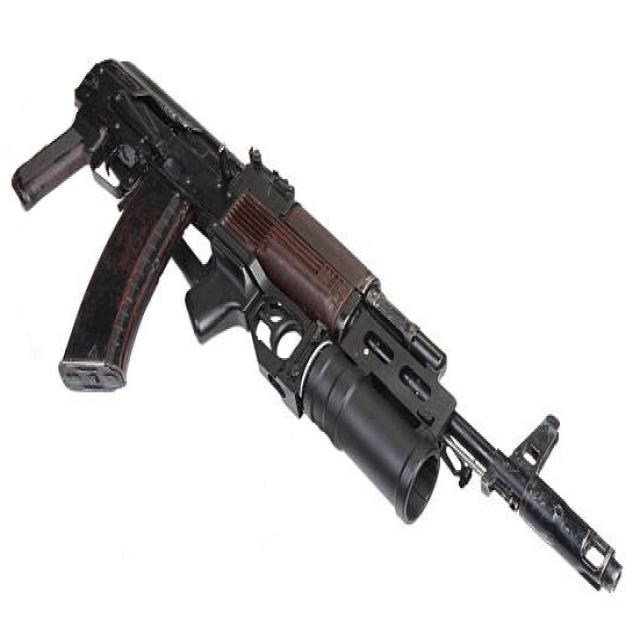rifle: (9, 49, 631, 600)
